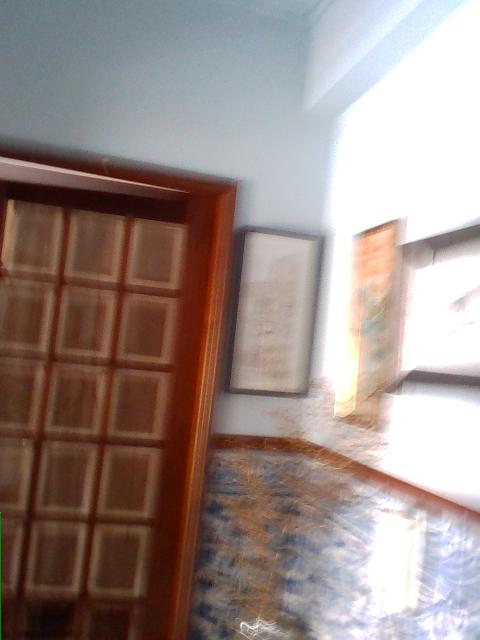door: (0, 136, 239, 639)
